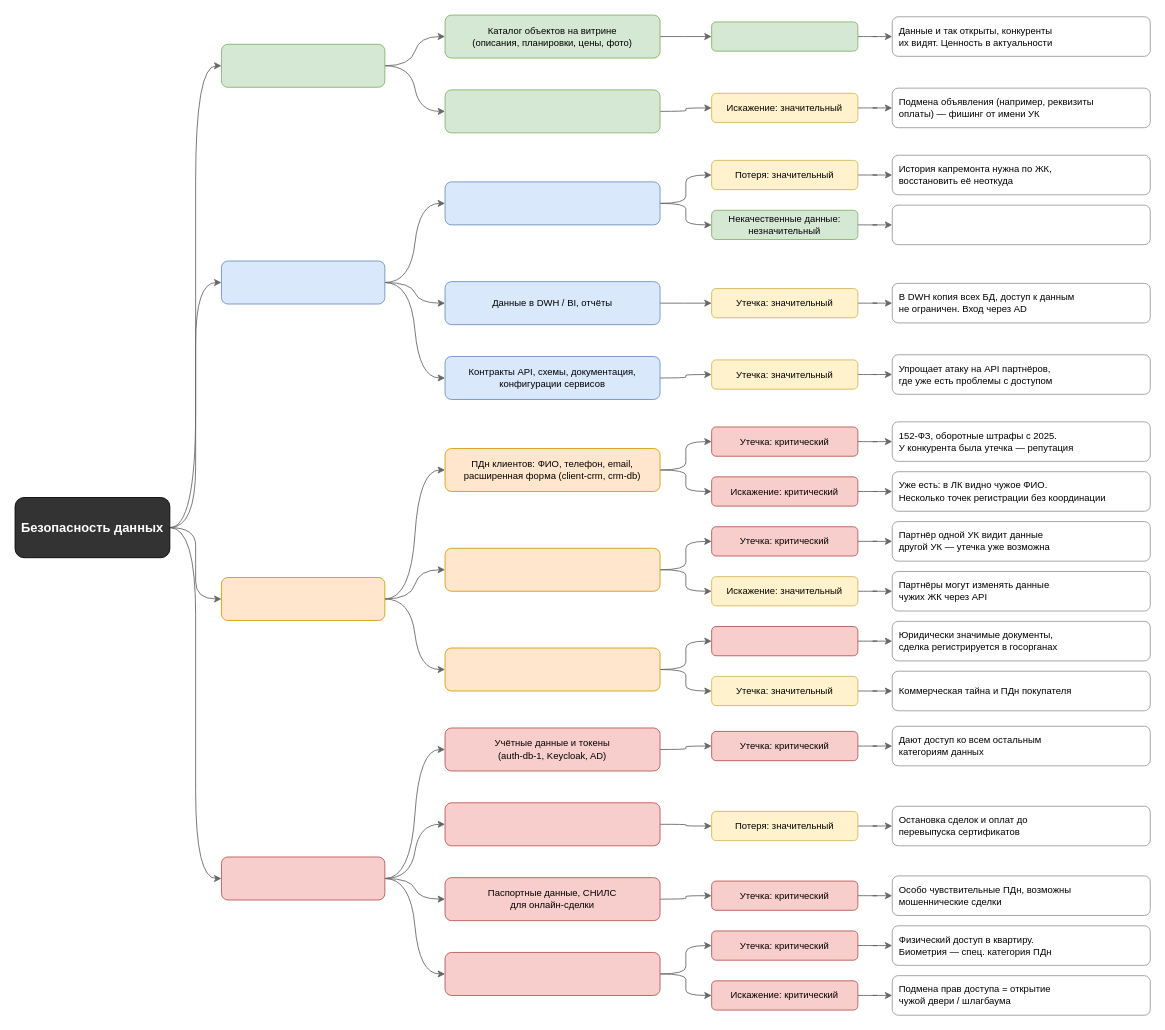
Image size: 1165x1030. Some labels were removed from this diagram. The shapes that lost their labels are listed below. From the top down, each one's centre as x and y in pixels, then its label:
At [784,36]: "Обесценивание: незначительный".
At [303,65]: "Публичные данные".
At [552,111]: "Новости и объявления УК в приложении собственника".
At [552,203]: "Данные о ремонтах (планы, история работ)".
At [1020,224]: "Собственник увидит неверный срок работ — жалоба, но без прямого ущерба".
At [303,282]: "Внутренние данные".
At [552,569]: "ПДн собственников и платежи ЖКУ (crm-tenant-db, tenant-core-db)".
At [303,598]: "Конфиденциальные данные".
At [784,641]: "Потеря: критический".
At [552,669]: "Данные сделок: договоры, условия, результаты осмотров (client-mart-db)".
At [552,824]: "Ключи и сертификаты интеграций (СМЭВ, ЭП, платёжная система, API УК)".
At [303,878]: "Секретные данные".
At [552,973]: "Доступ к умному дому (замки, биометрия, номера авто)".
